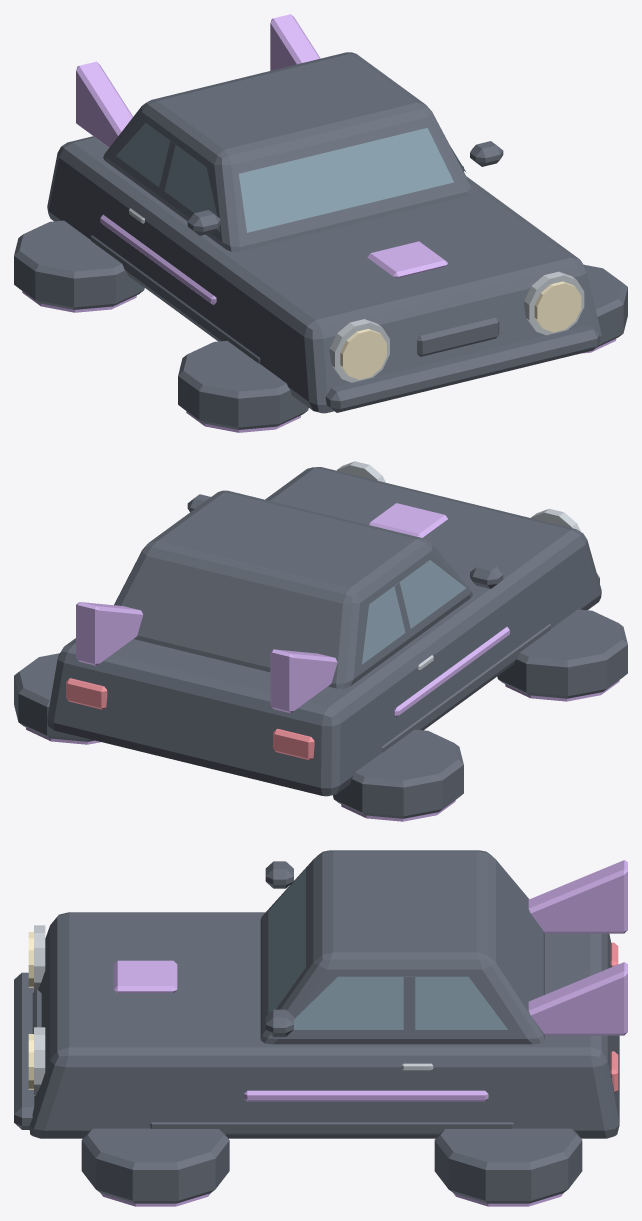
File: void_racer.glb
3 views of the same model, one above another, from view 1: azimuth 30°, elevation 25°; view 2: azimuth 150°, elevation 25°; view 3: azimuth 270°, elevation 25° (orthographic). The views are drawn at different scales.
Visible parts, largest first — view 1: void_racer_black.001, void_racer_glass.001, void_racer_purple.001, void_racer_yellow, void_racer_gray; view 2: void_racer_black.001, void_racer_purple.001, void_racer_glass.001, void_racer_red, void_racer_gray; view 3: void_racer_black.001, void_racer_purple.001, void_racer_glass.001, void_racer_gray, void_racer_yellow, void_racer_red.
Boxes of the visible parts, x1,y1,x2,y2 form: void_racer_black.001: (14, 52, 627, 429); void_racer_glass.001: (116, 123, 466, 232); void_racer_purple.001: (22, 14, 616, 432); void_racer_yellow: (340, 281, 581, 379); void_racer_gray: (129, 208, 584, 382); void_racer_black.001: (14, 467, 627, 818); void_racer_purple.001: (25, 503, 619, 821); void_racer_glass.001: (362, 560, 466, 664); void_racer_red: (66, 678, 314, 760); void_racer_gray: (337, 461, 580, 670); void_racer_black.001: (14, 850, 619, 1203); void_racer_purple.001: (100, 860, 627, 1206); void_racer_glass.001: (268, 869, 507, 1029); void_racer_gray: (34, 925, 433, 1096); void_racer_yellow: (28, 932, 33, 1089); void_racer_red: (610, 942, 618, 1092).
Size of the model in its own units: 4.68 by 1.9 by 5.39.
